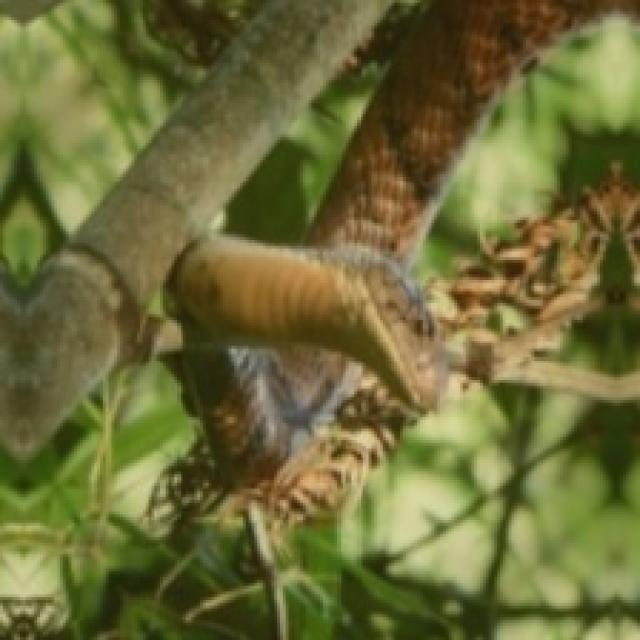king cobra: (169, 0, 637, 409)
